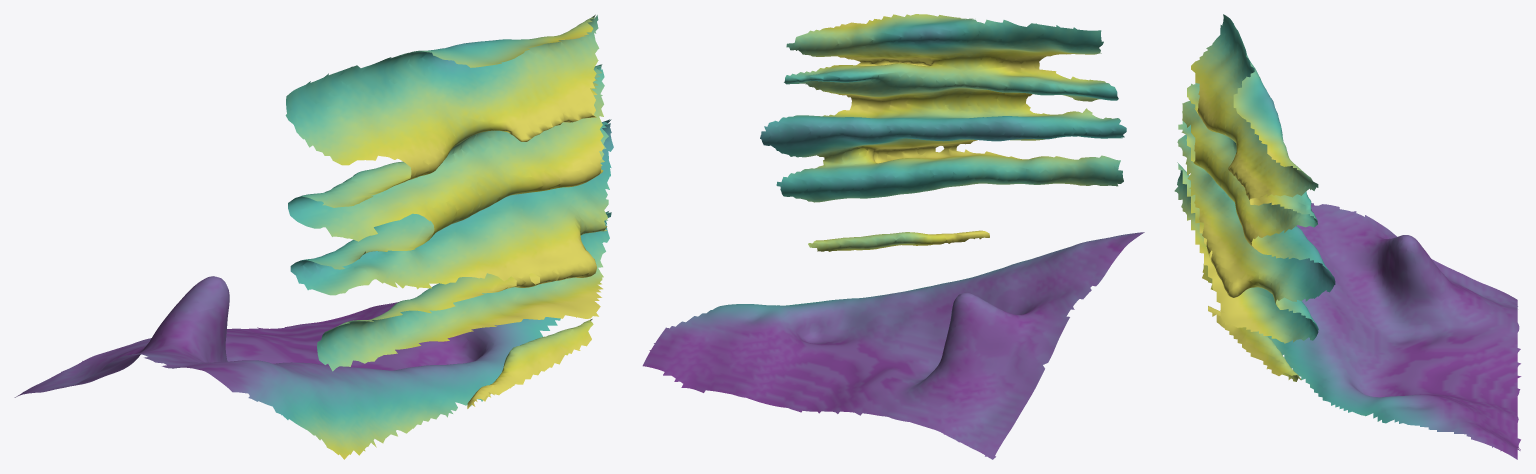
File: crop1152_gap.glb
3 renders of one model, left to right at view 1: azimuth 30°, elevation 25°; view 2: azimuth 150°, elevation 25°; view 3: azimuth 270°, elevation 25°, orthographic. The views are drawn at different scales.
Visible parts, largest first — view 1: geometry_0; view 2: geometry_0; view 3: geometry_0.
Part boxes in pixels (x1,y1,x2,y2): geometry_0: (14,14,613,459); geometry_0: (642,14,1144,459); geometry_0: (1174,14,1521,459).
Size of the model in its own units: 1518 by 1287 by 1312.
